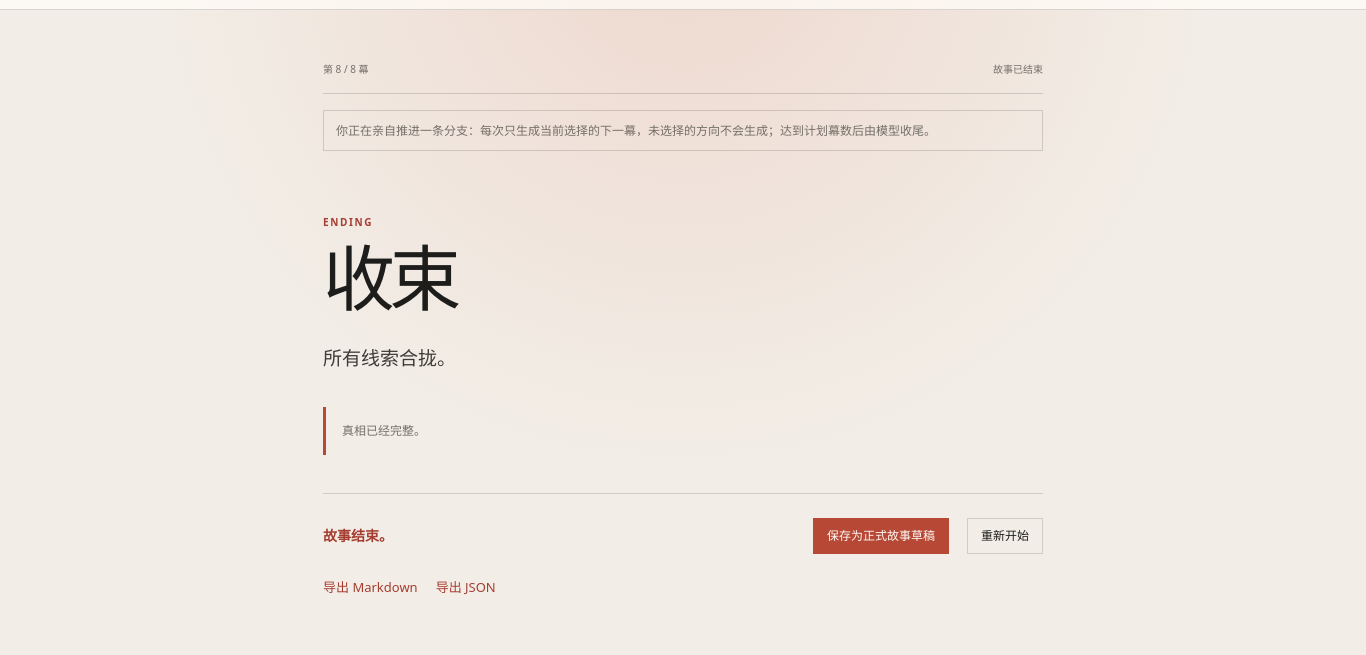
Scenario: InteractivePlayer › does not let a stale materialize response update a different session
Click the button "保存为正式故事草稿" at (881, 536), box [813,518,949,554]
(page scrolled)
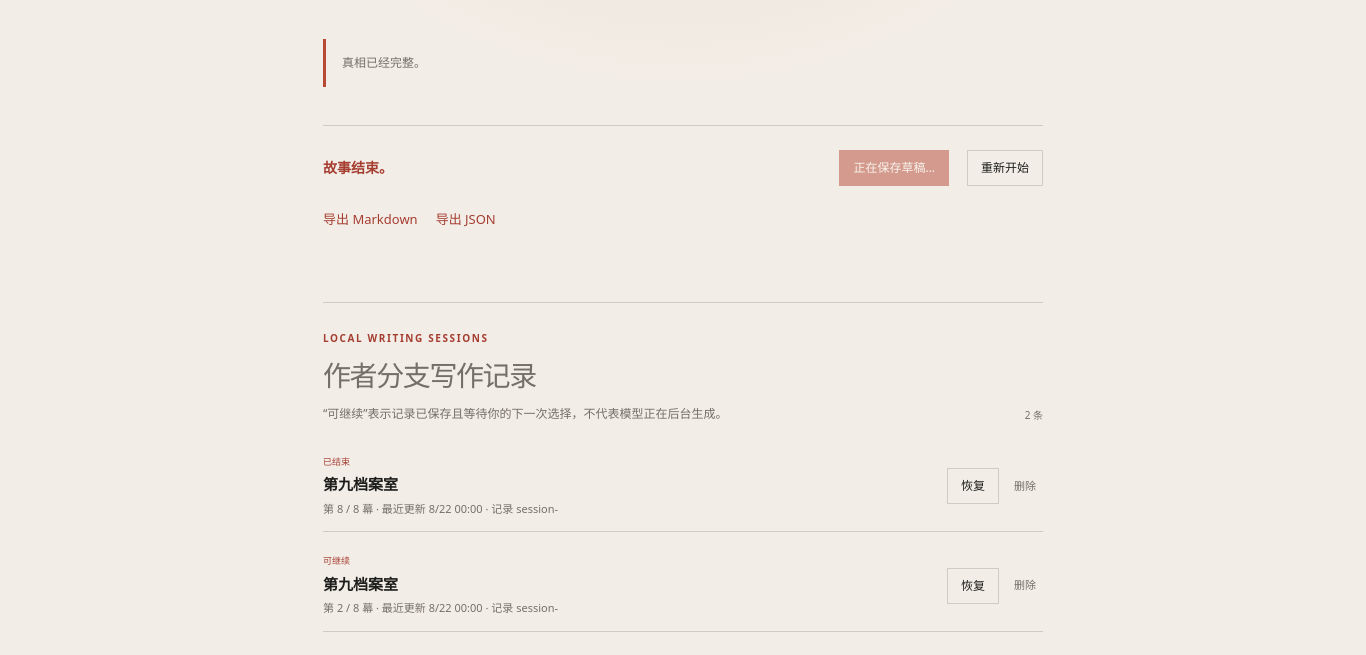
Click the button with aria-label "恢复第九档案室第 2 幕" at (973, 586), box [947,568,999,604]
(page scrolled)
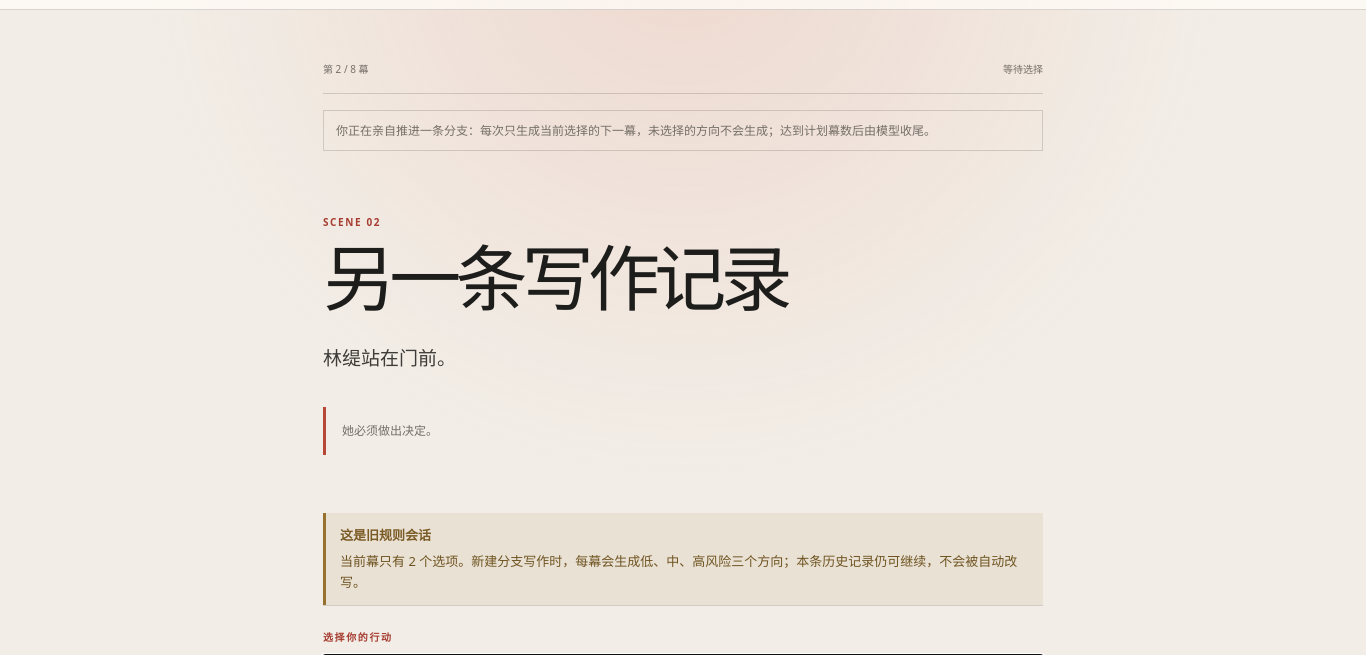
Result: the heading "另一条写作记录" is shown at [323,228,787,326]
